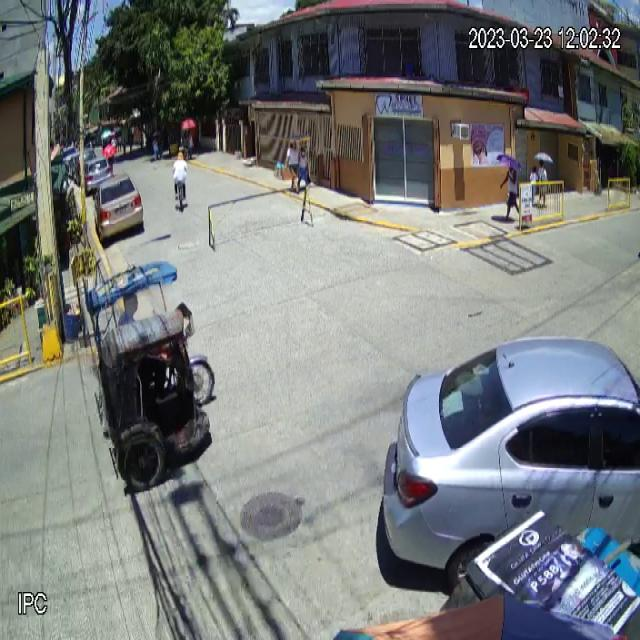Tricycle: (85, 259, 215, 489)
